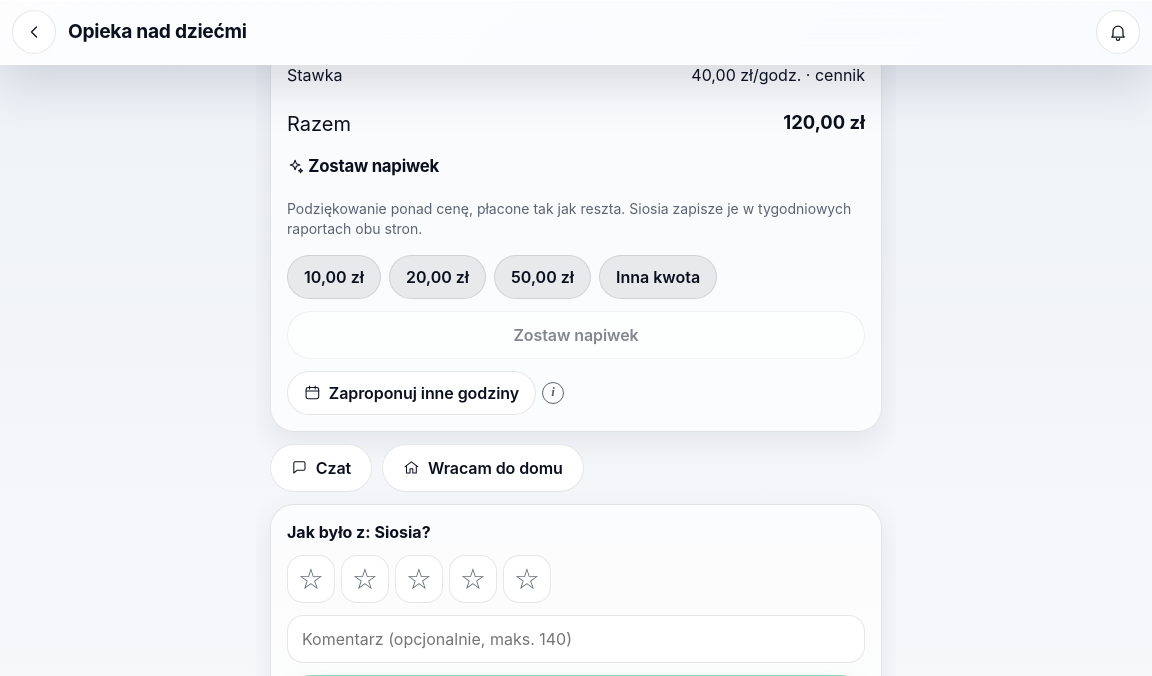
C3 a new length (FR-335) › a done one: Correct the time gave way to proposing another time frame in Payment (either party), in Polish
The image size is (1152, 676).
Later steps or results of the test are not shown.
(page scrolled)
Click the button with test id "payment-propose": (412, 393) [287,371,536,415]
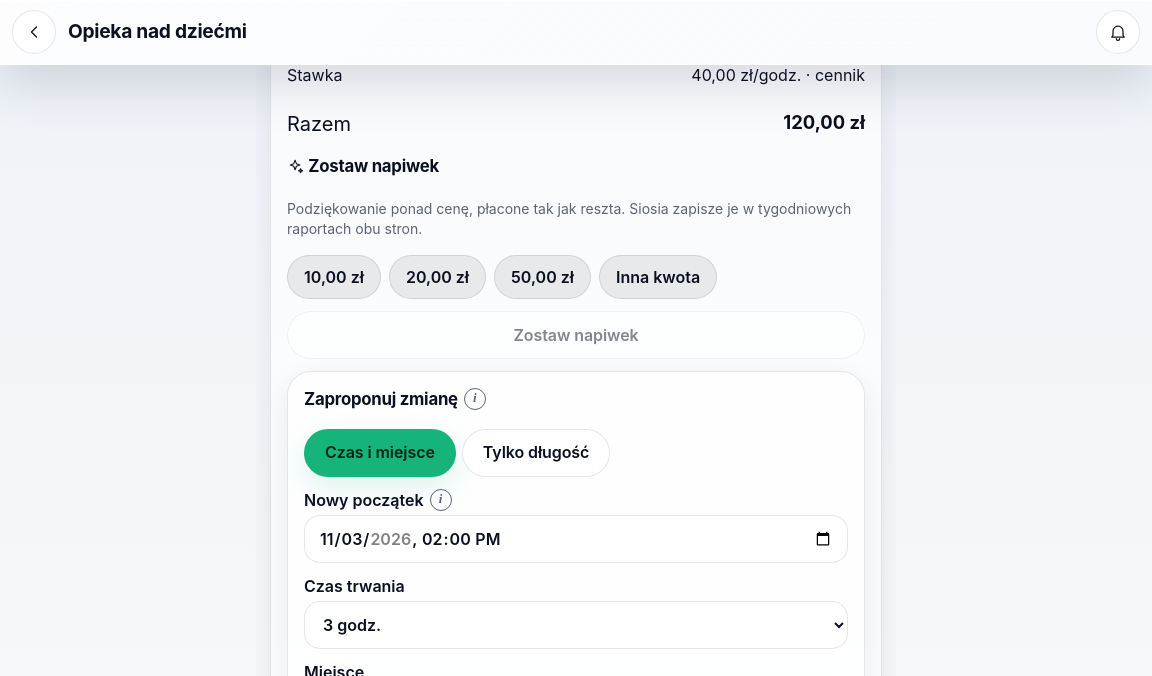
Click the button with test id "change-mode-length": (536, 452) [462,428,610,476]
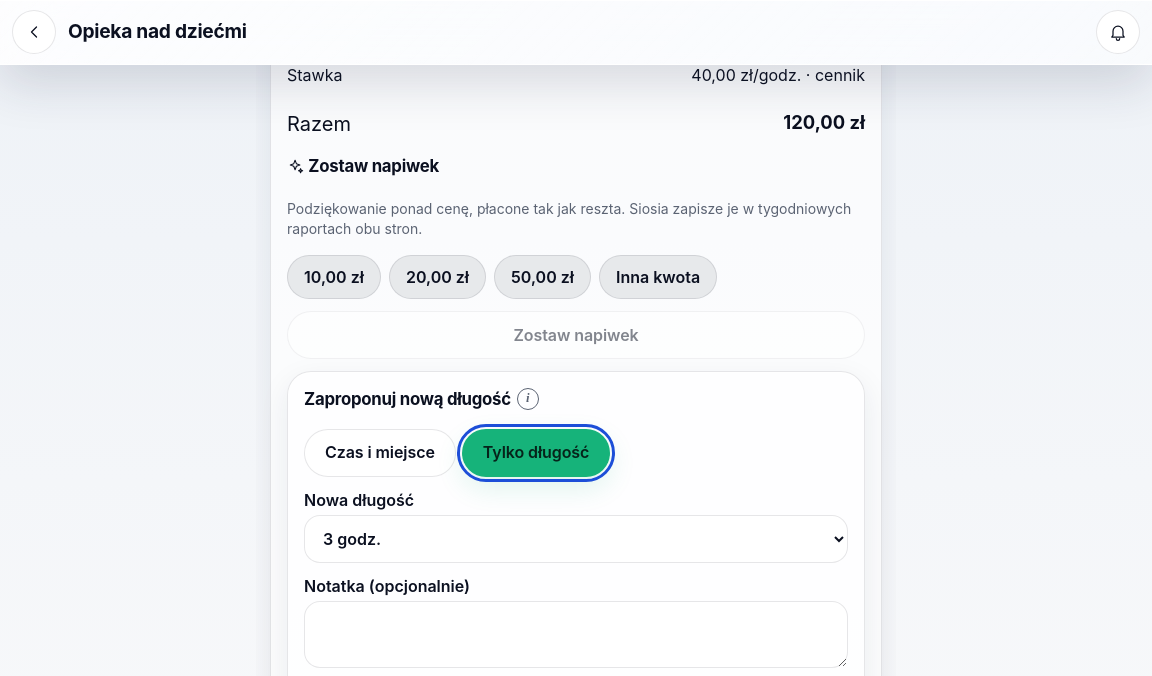
expect the element with test id "change-sheet" shows "Zaproponuj nową długość": met, box [304,389,511,409]
Select "2 godz. 30 min" in the dropdown with test id "change-minutes": (576, 539) [304,515,848,563]
(page scrolled)
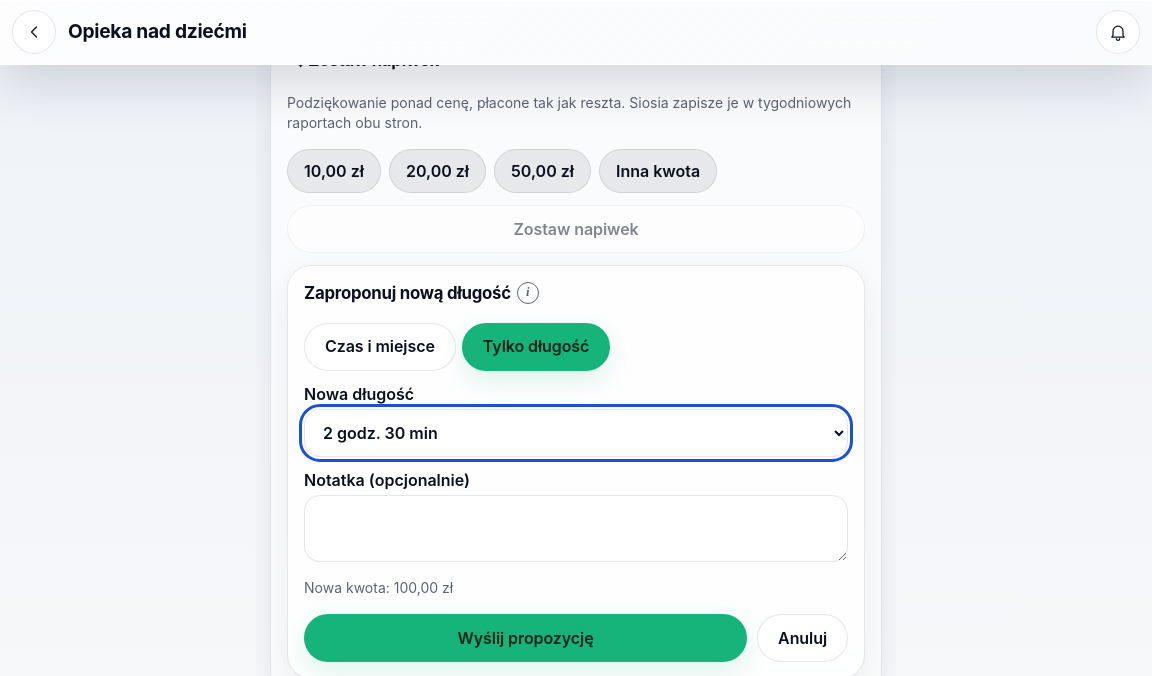
expect the element with test id "change-preview" shows "Nowa kwota: 100,00": met, box [304,579,453,596]
